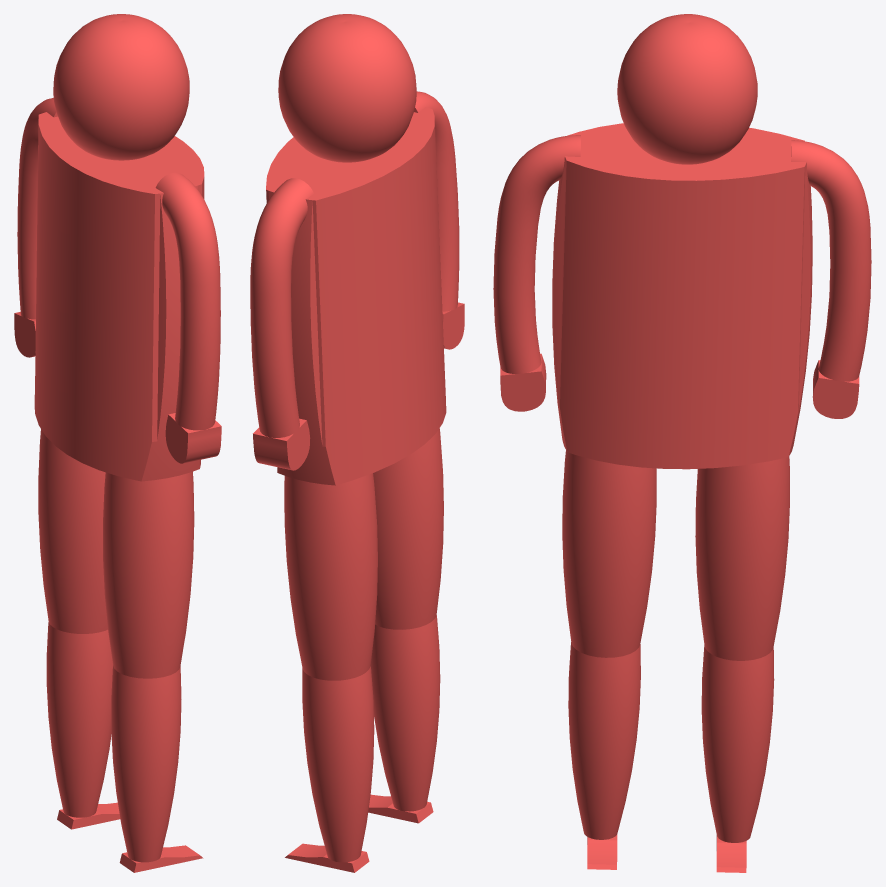
The model's file is human3.gltf.
The picture shows the model from 3 angles, left to right: view 1: azimuth 30°, elevation 25°; view 2: azimuth 150°, elevation 25°; view 3: azimuth 270°, elevation 25°; orthographic projection. The views are drawn at different scales.
Parts seen in each view (by area): view 1: Body_1; view 2: Body_1; view 3: Body_1.
Part boxes in pixels (<box>): Body_1: <box>14,14,221,872</box>; Body_1: <box>250,14,464,872</box>; Body_1: <box>493,14,871,872</box>.
Bounding box in the file's own units: 0.4003 × 2.5 × 1.03.
